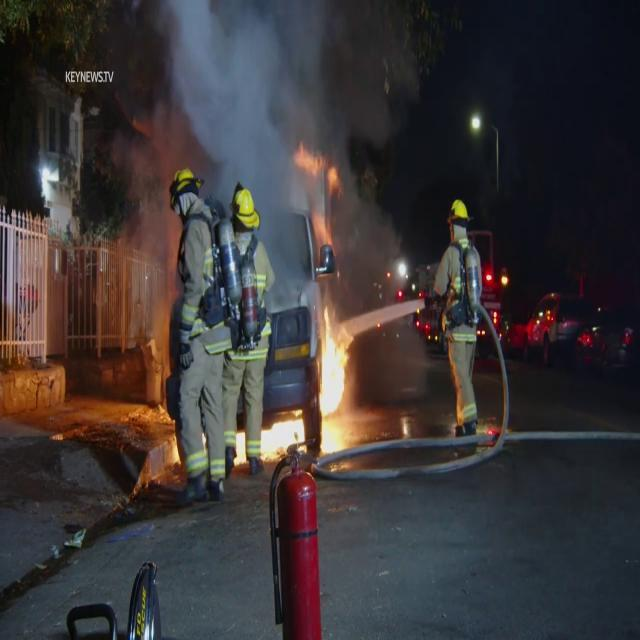Fire: (315, 305, 350, 438), (257, 403, 309, 465)
Smoke: (122, 0, 354, 238)
